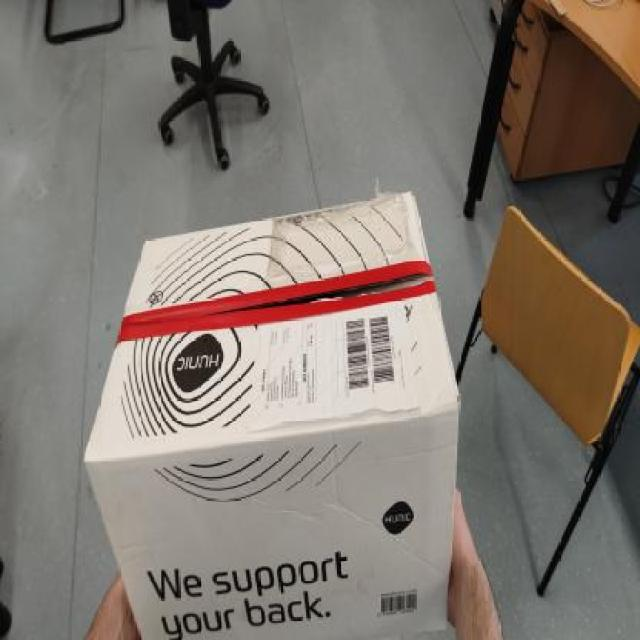box: (72, 184, 487, 640)
